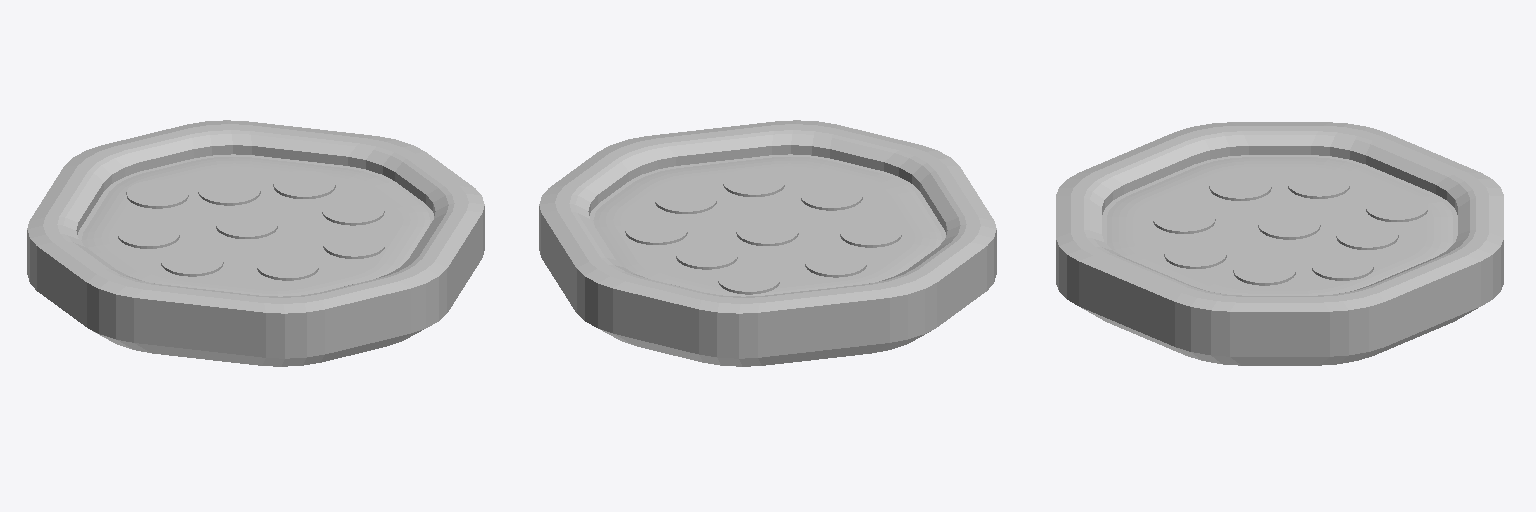
The model's file is frozen pepperoni pizza.obj.
3 renders of one model, left to right at view 1: azimuth 30°, elevation 25°; view 2: azimuth 150°, elevation 25°; view 3: azimuth 270°, elevation 25°, orthographic.
Parts seen in each view (by area): view 1: Pepperoni_Pizza.002_Cube.007; view 2: Pepperoni_Pizza.002_Cube.007; view 3: Pepperoni_Pizza.002_Cube.007.
Part boxes in pixels (x1,y1,x2,y2): Pepperoni_Pizza.002_Cube.007: (27,120,484,366); Pepperoni_Pizza.002_Cube.007: (539,120,996,366); Pepperoni_Pizza.002_Cube.007: (1056,122,1503,365).
Size of the model in its own units: 2 by 0.4132 by 2.